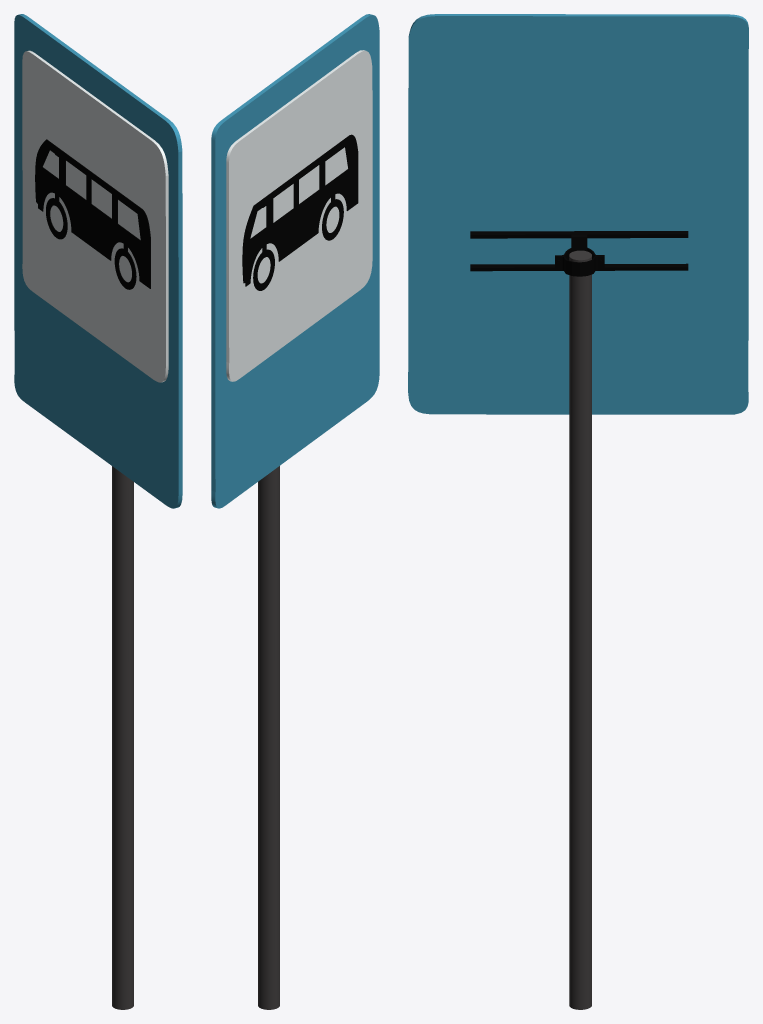
The model's file is school.obj.
3 views of the same model, side by side, from view 1: azimuth 30°, elevation 25°; view 2: azimuth 150°, elevation 25°; view 3: azimuth 270°, elevation 25° (orthographic). The views are drawn at different scales.
Visible parts, largest first — view 1: object 1, object 3, Cylinder001, Line003; view 2: object 1, object 3, Cylinder001, Line003; view 3: object 1, Cylinder001.
Boxes of the visible parts, x1,y1,x2,y2 form: object 1: [14, 14, 182, 508]; object 3: [22, 50, 168, 382]; Cylinder001: [112, 466, 133, 1009]; Line003: [35, 139, 150, 289]; object 1: [211, 14, 379, 508]; object 3: [226, 50, 372, 381]; Cylinder001: [258, 466, 279, 1009]; Line003: [242, 134, 358, 290]; object 1: [408, 14, 748, 414]; Cylinder001: [569, 250, 591, 1009].
Bounding box in the file's own units: 16.83 × 335 × 106.
